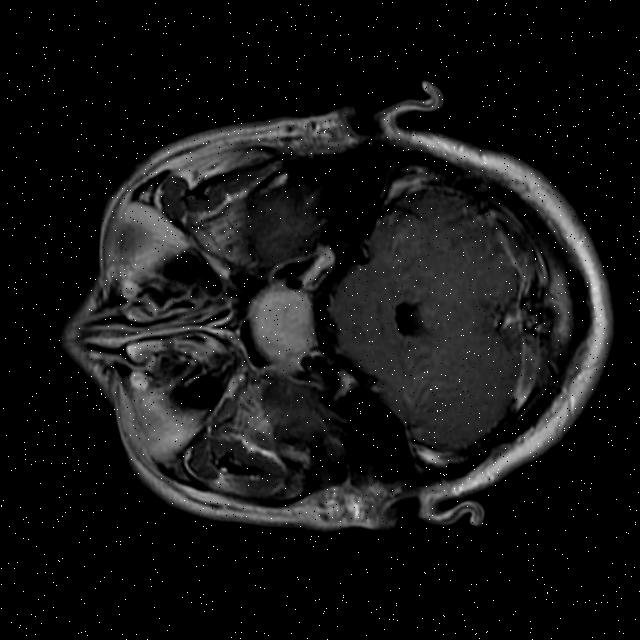Pituitary: (244, 285, 318, 362)
